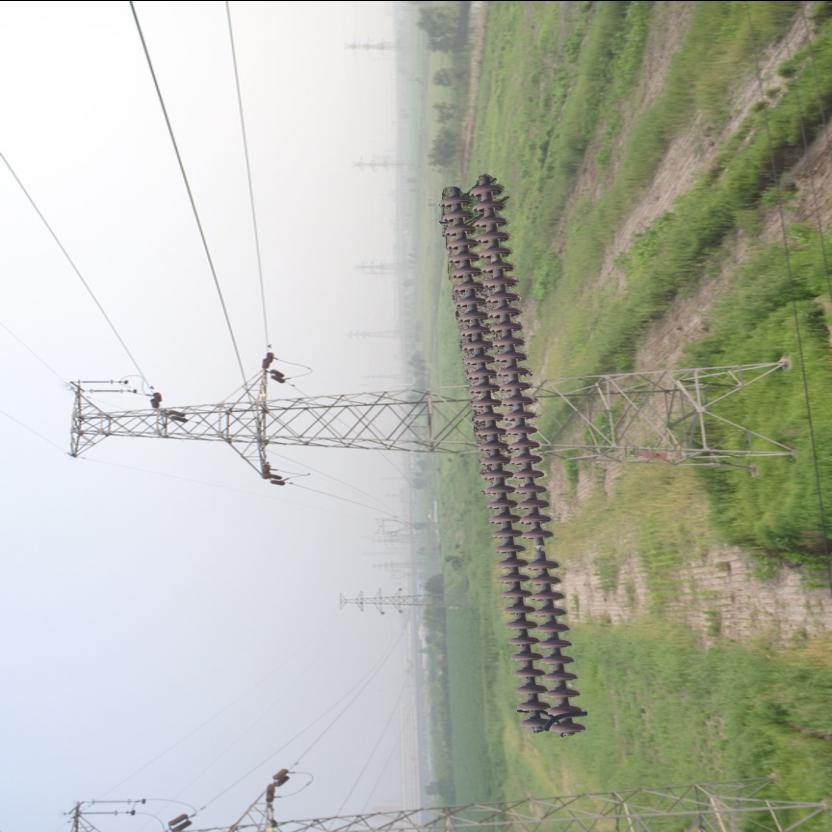defect: (518, 522, 560, 574)
